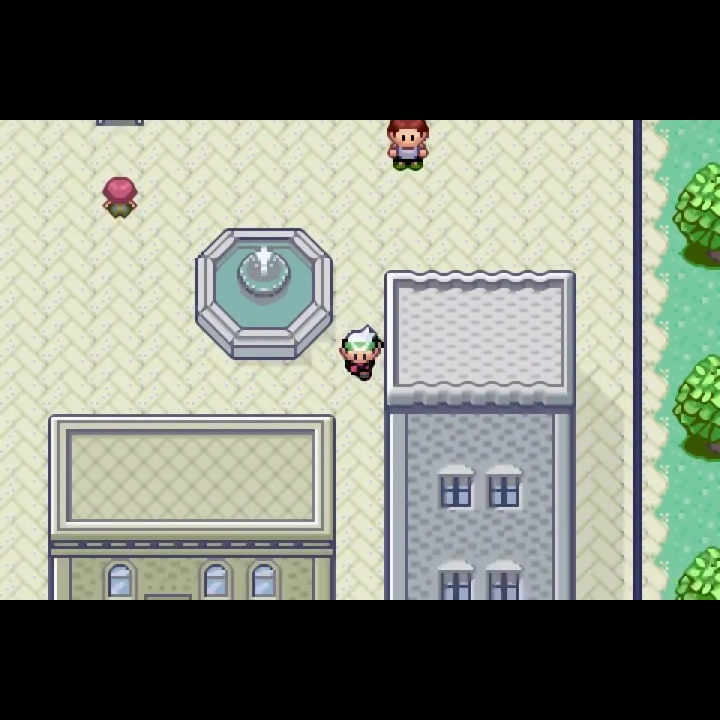house: (385, 269, 578, 600), (46, 411, 339, 600)
npc: (338, 321, 384, 385), (383, 120, 430, 172), (100, 176, 140, 221)
wall: (671, 161, 720, 275), (671, 350, 720, 464), (670, 545, 720, 599)
